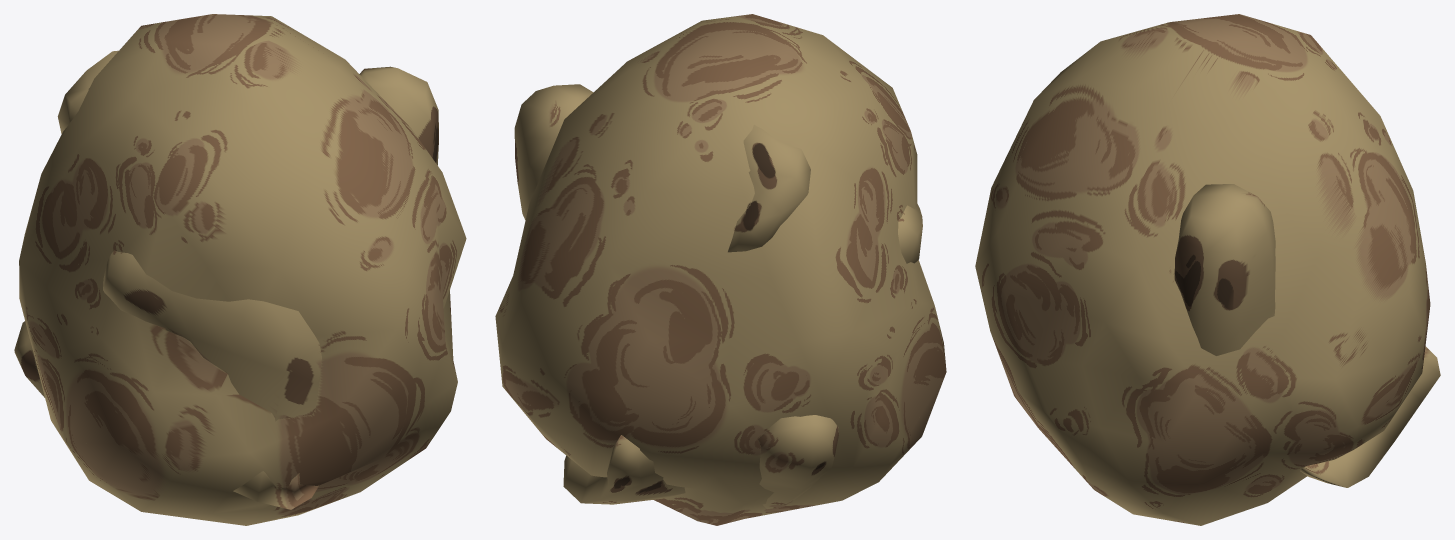
The model's file is asteroid_ant.gltf.
3 views of the same model, side by side, from view 1: azimuth 30°, elevation 25°; view 2: azimuth 150°, elevation 25°; view 3: azimuth 270°, elevation 25° (orthographic). The views are drawn at different scales.
Parts seen in each view (by area): view 1: asteroid_ant; view 2: asteroid_ant; view 3: asteroid_ant.
Part boxes in pixels (x1,y1,x2,y2): asteroid_ant: [14, 14, 466, 525]; asteroid_ant: [495, 14, 946, 525]; asteroid_ant: [975, 14, 1440, 525].
Bounding box in the file's own units: 1.68 × 2.07 × 1.86.
Materials: 1 (1 with a texture image).
